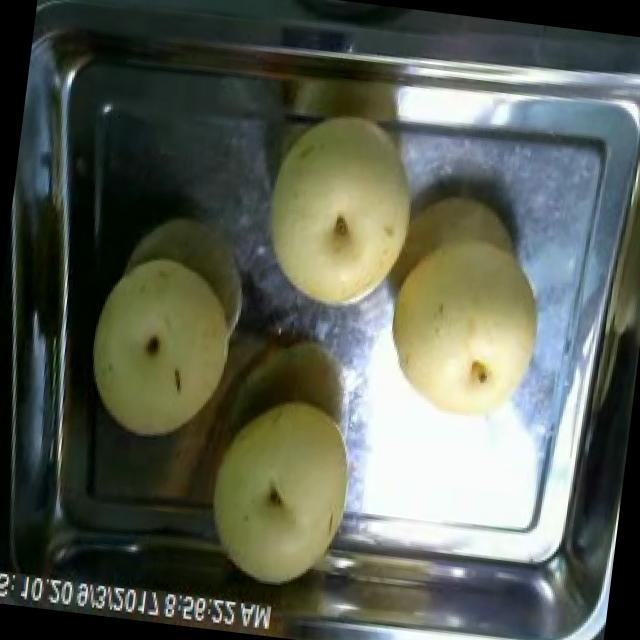Fruit: (368, 180, 562, 438), (66, 232, 270, 460), (241, 96, 434, 331), (184, 374, 373, 606)
